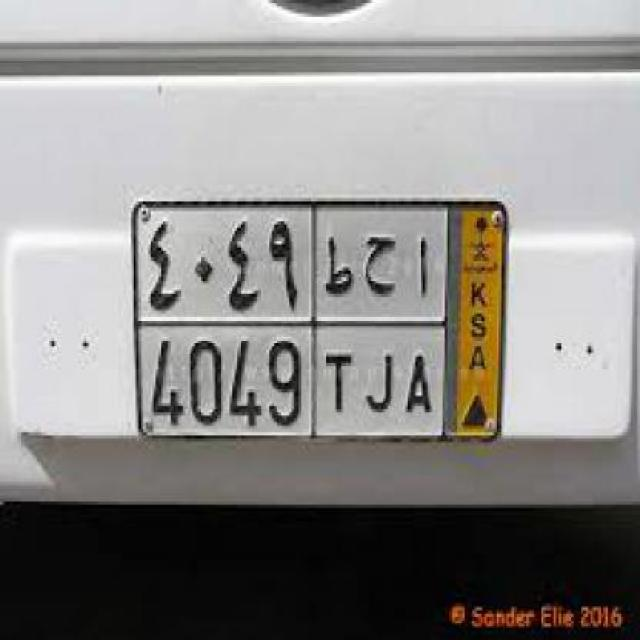license_plate: (128, 194, 512, 448)
